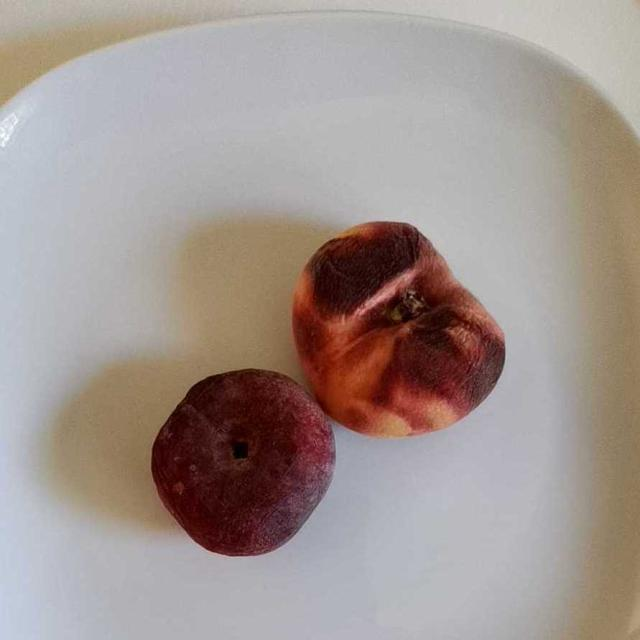peach: (293, 220, 501, 435), (149, 371, 337, 553)
